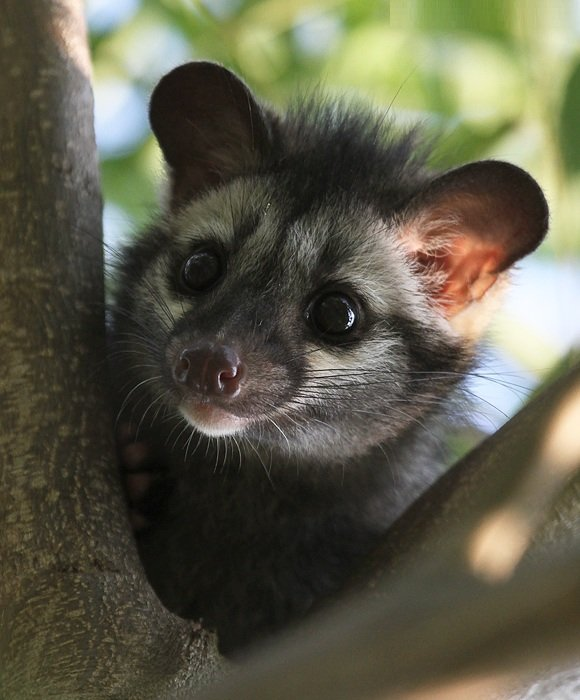Civet: (108, 48, 562, 494)
